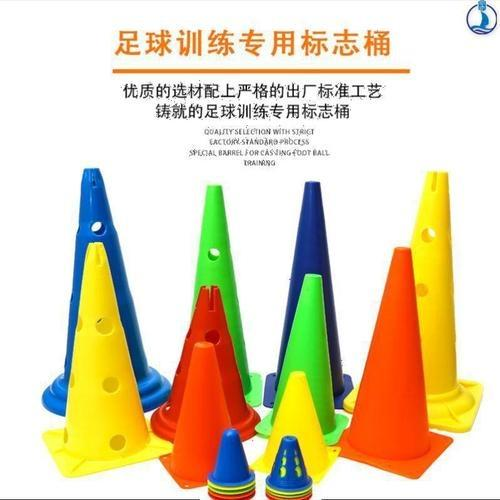cone_barrel: (46, 169, 162, 400), (43, 242, 154, 471), (345, 250, 437, 466), (268, 181, 346, 397), (402, 166, 471, 407), (189, 183, 257, 402), (261, 270, 343, 435), (166, 339, 231, 484), (203, 423, 255, 487), (263, 432, 313, 489)
